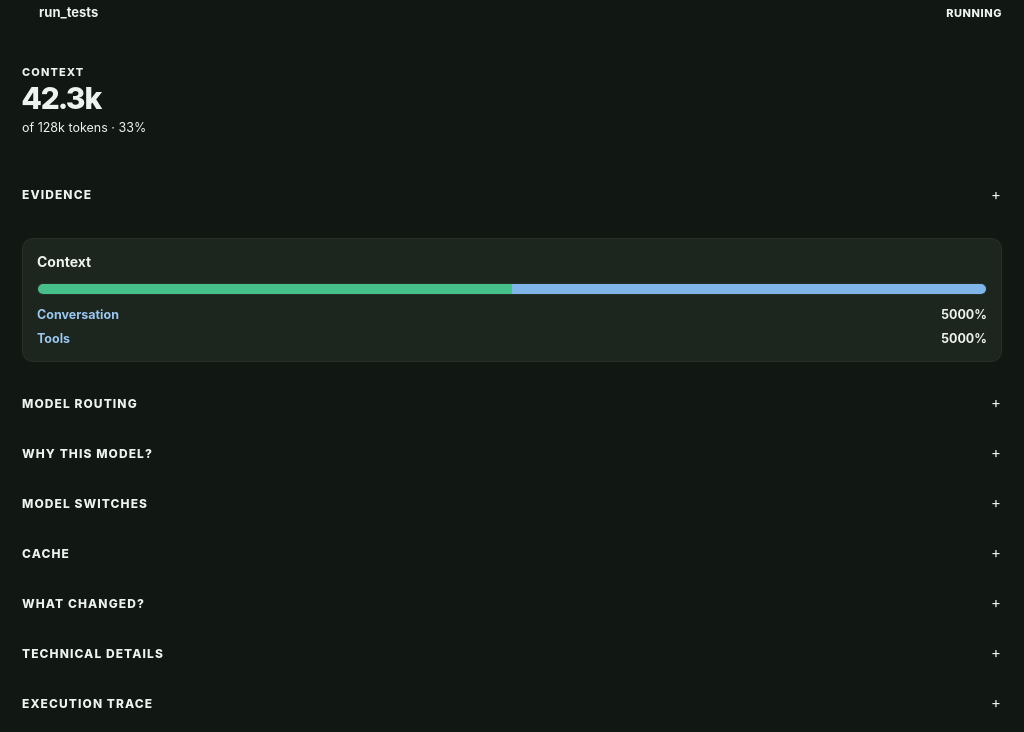
Test: inspector + layout › model switch banner renders from switch decisions
(page scrolled)
# Switches live in the expandable Model switches section — expand it.
What coordinates should you click on to do the following:
click the button with aria-label "expand model switches"
I would click on:
 (85, 503)
Its box is x1=22 y1=478 x2=1002 y2=528.
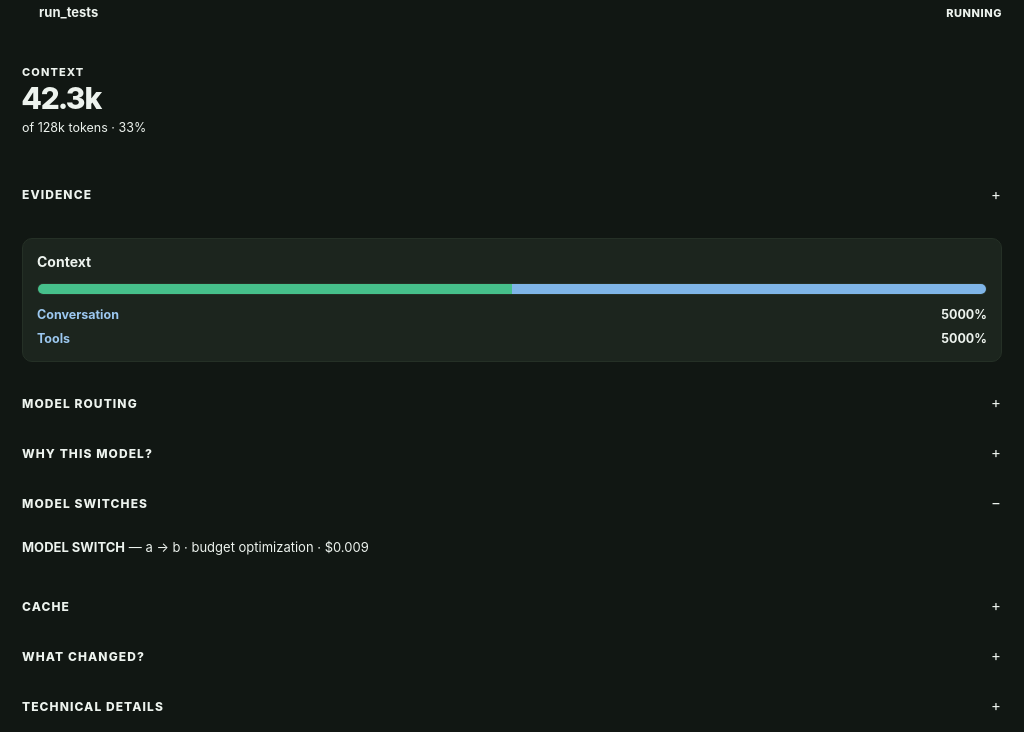
Check: the text "MODEL SWITCH" is shown, box x1=22 y1=539 x2=125 y2=555
